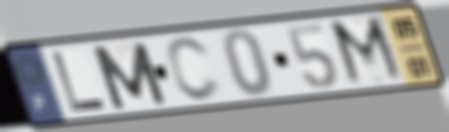0: (221, 26, 279, 101)
5: (283, 21, 340, 91)
C: (163, 34, 226, 104)
L: (49, 49, 111, 114)
M: (325, 13, 410, 90), (87, 40, 171, 113)
